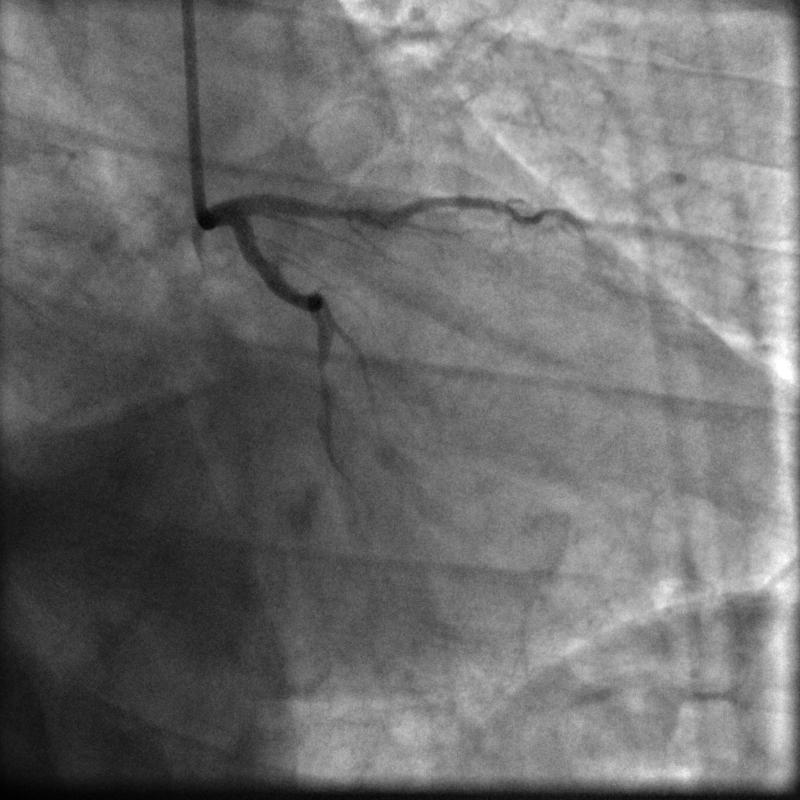Stenosis: (316, 359, 332, 381)
